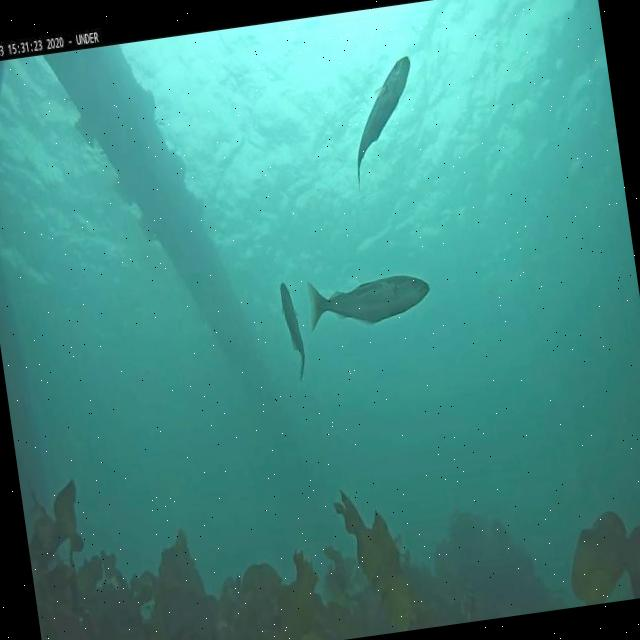fish: (342, 56, 427, 193), (306, 264, 432, 332), (278, 279, 310, 381)
